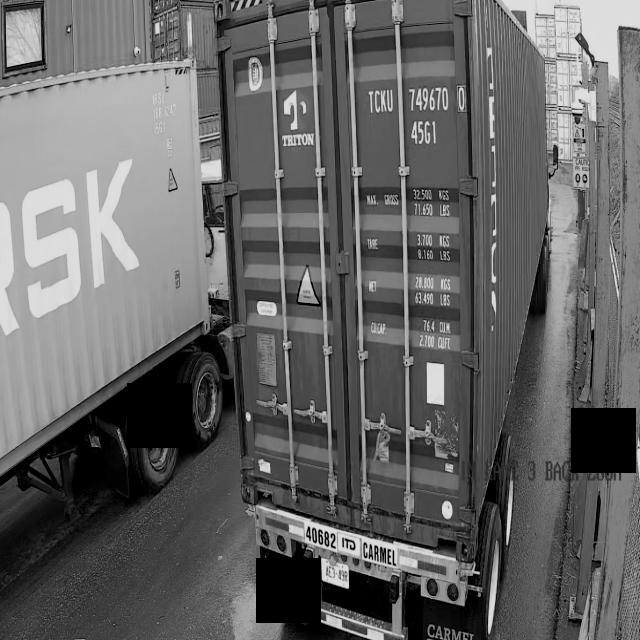container_company_logo: (280, 93, 316, 154)
container_number: (366, 78, 460, 155)
license_plate: (215, 0, 551, 640), (316, 550, 357, 586), (416, 292, 433, 303)
other_container_info: (359, 184, 467, 363)
truck_with_container: (215, 0, 551, 640), (0, 61, 233, 515), (0, 61, 224, 514)
